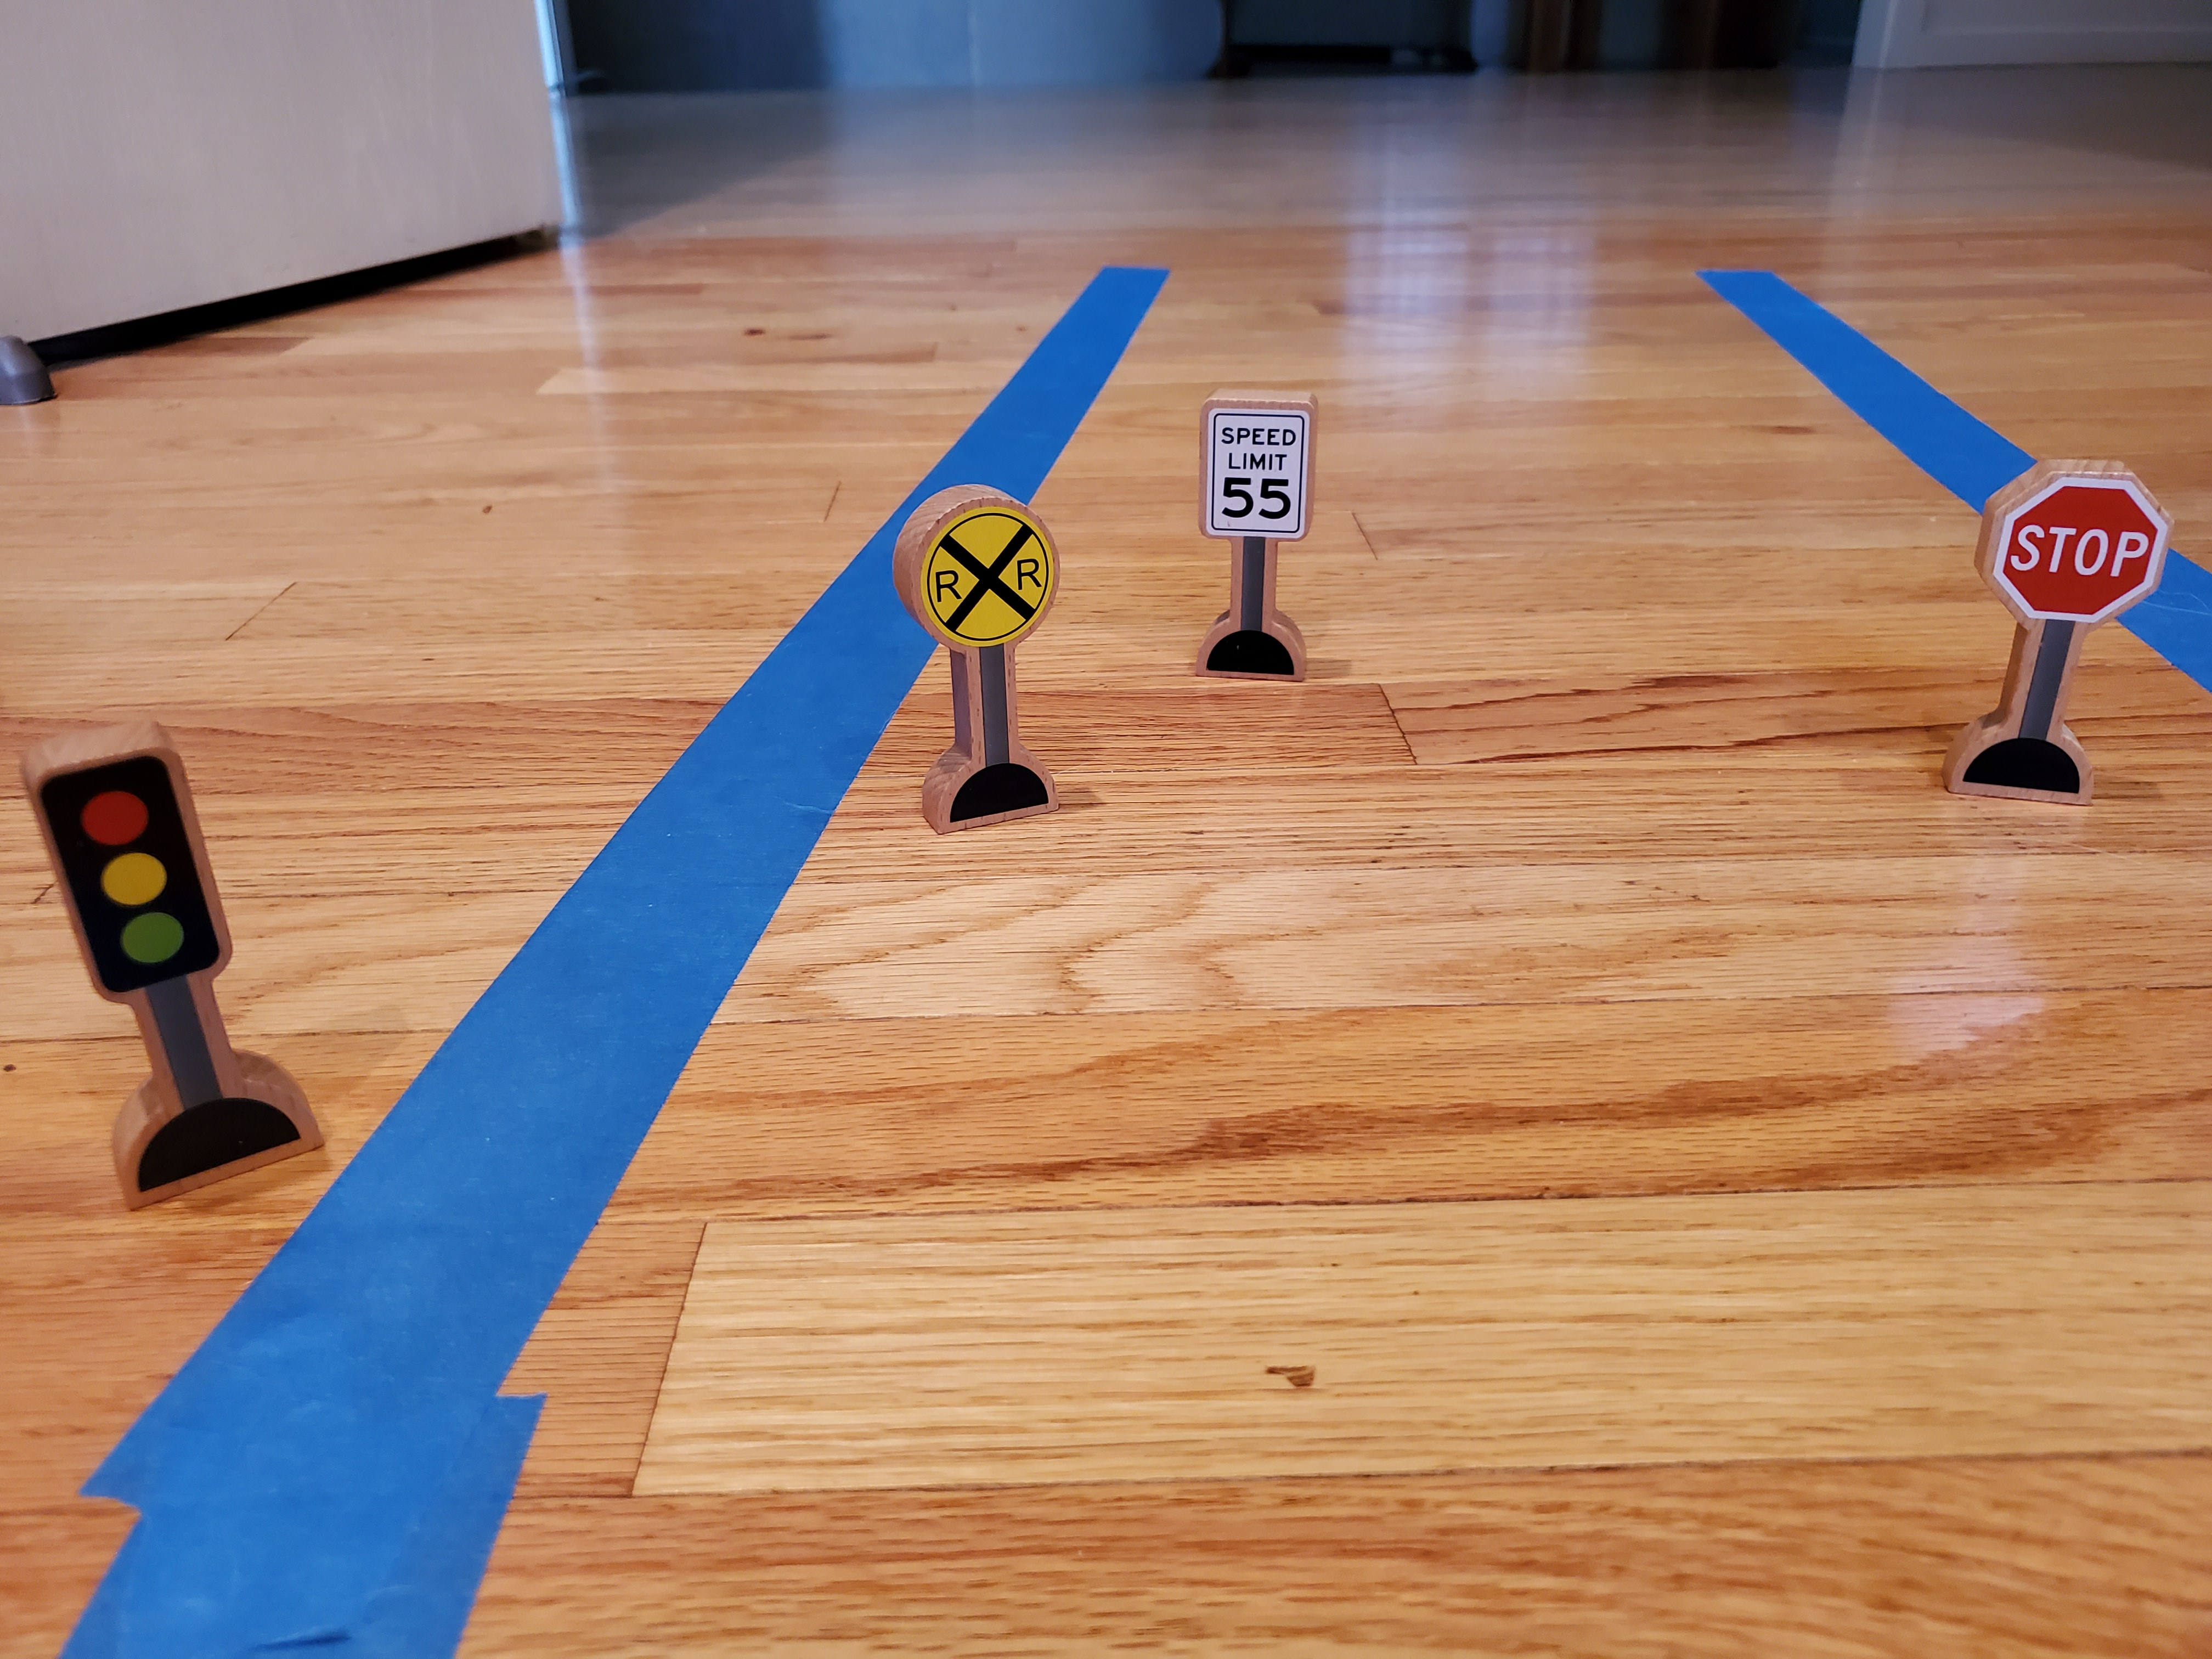Railroad Crossing: (897, 481, 1071, 666)
Red Traffic Light: (21, 734, 235, 1000)
Speed Limit 55: (1191, 385, 1322, 544)
Stop Sign: (1979, 455, 2177, 640)
